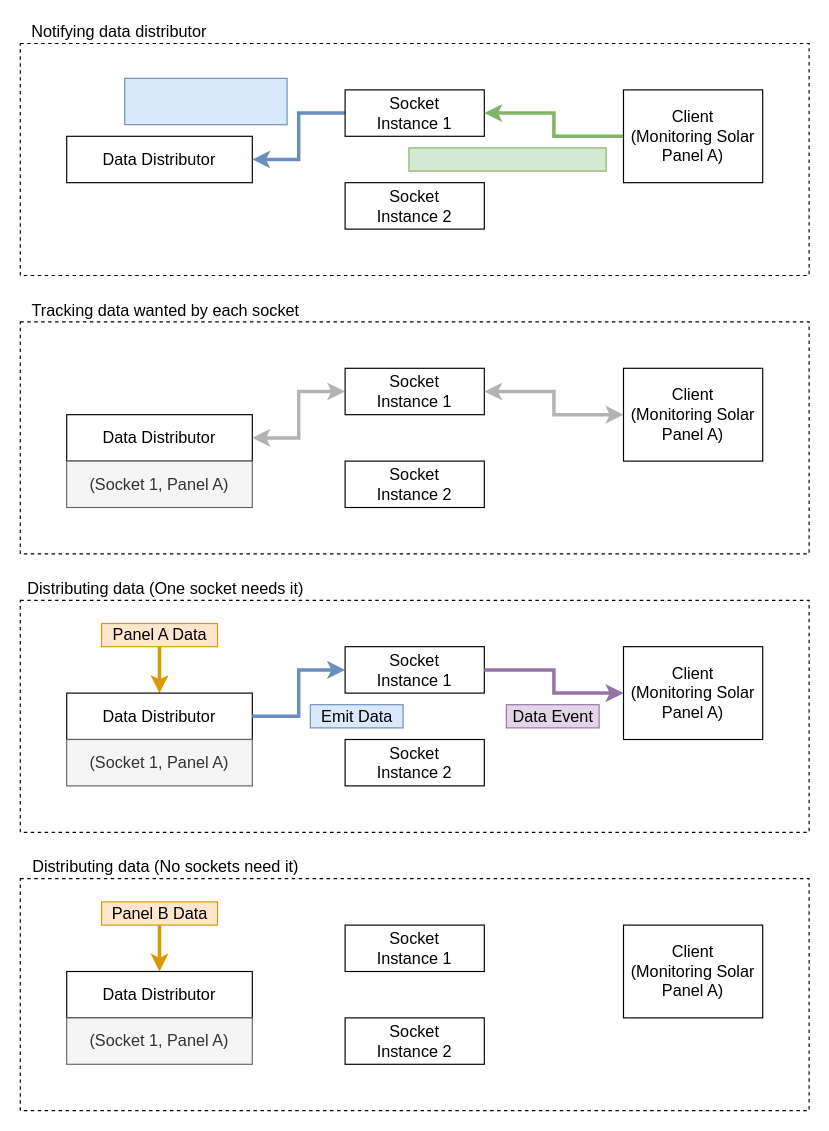
This 829x1131 diagram has some shape labels left out. The centre of each missing label's shape, as x and y in pixels:
Connection Tracking Synchronisation: the point at 205,101
I want data from panel A: the point at 507,159
